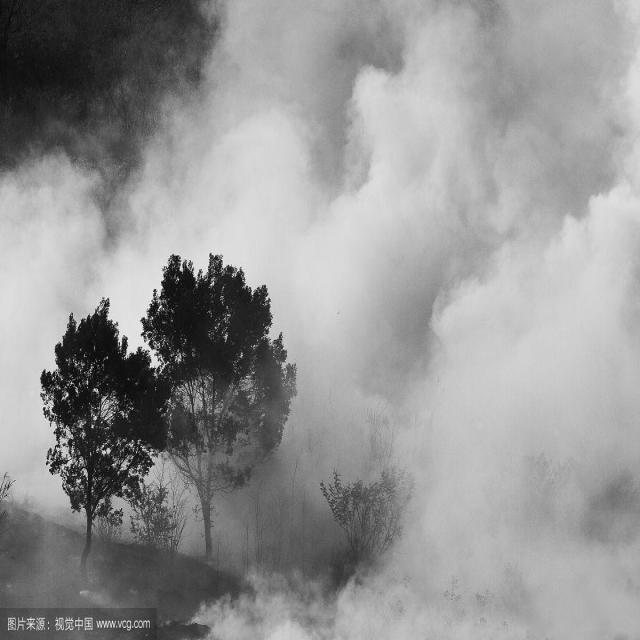smoke: (184, 10, 639, 638), (0, 142, 94, 522)
